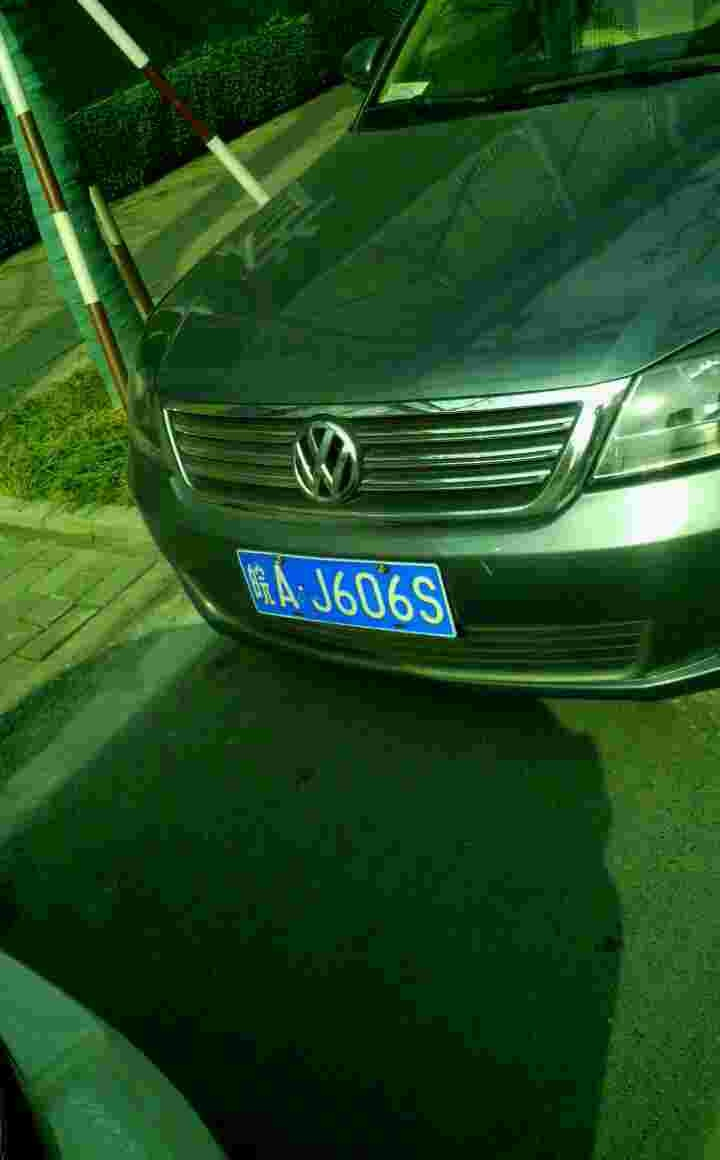plate: (227, 543, 461, 640)
